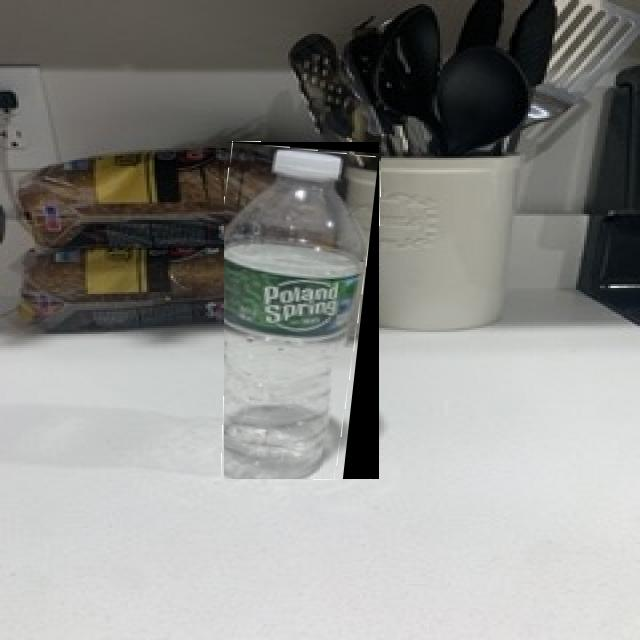water_bottle: (224, 142, 379, 479)
